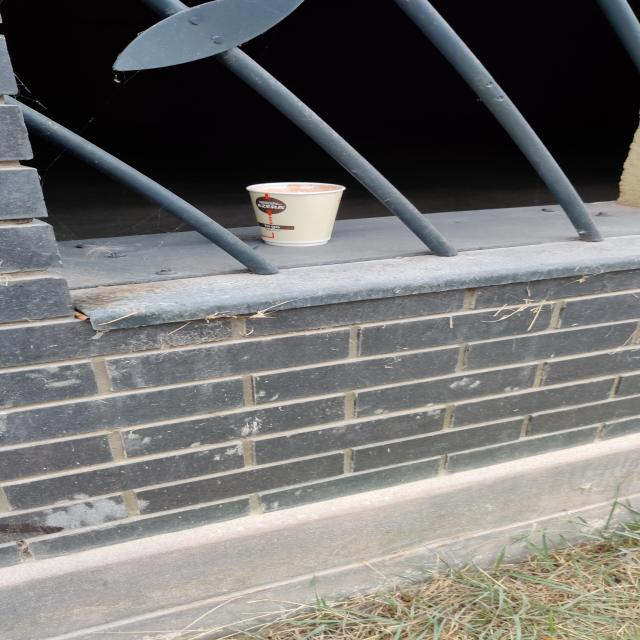litter: (246, 182, 346, 247)
